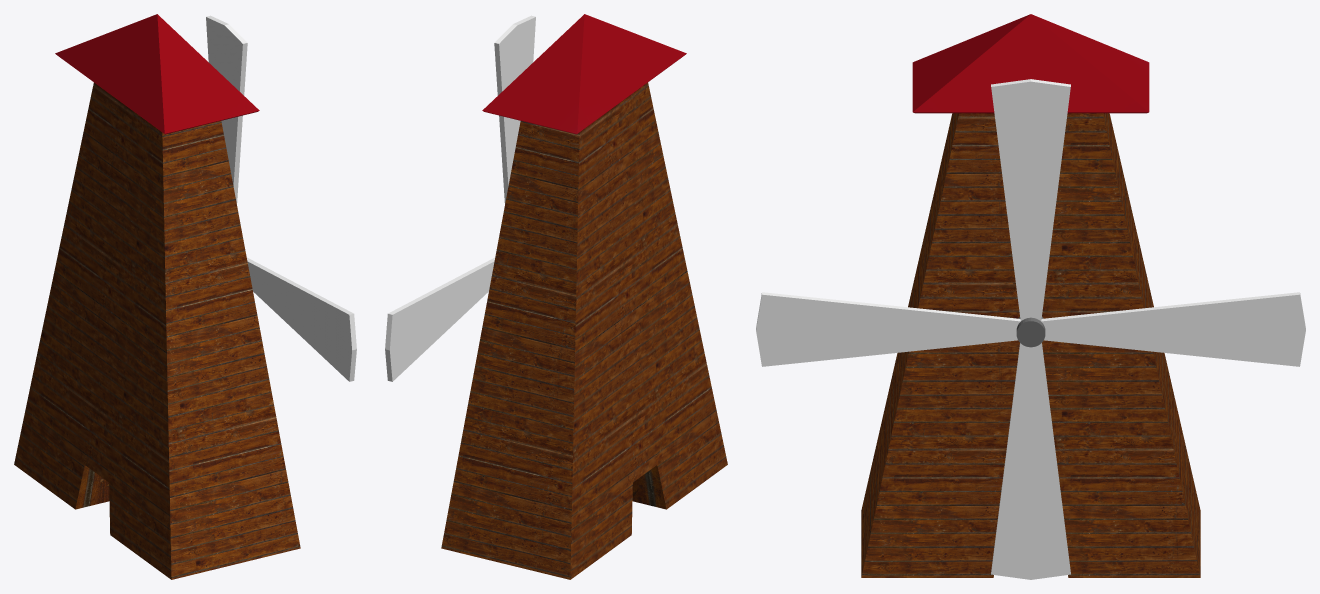
Rendered from test_windmill.fbx.
3 views of the same model, side by side, from view 1: azimuth 30°, elevation 25°; view 2: azimuth 150°, elevation 25°; view 3: azimuth 270°, elevation 25° (orthographic). The views are drawn at different scales.
Visible parts, largest first — view 1: Main.002, Main.001, Roof, Main, Blades; view 2: Main.001, Main.002, Roof, Main, Blades; view 3: Blades, Main.001, Main.002, Roof, Main, Cylinder.
Part boxes in pixels (bbox=[...]): Main.002: bbox=[109, 116, 300, 579]; Main.001: bbox=[14, 82, 115, 509]; Roof: bbox=[55, 14, 259, 134]; Main: bbox=[84, 99, 140, 482]; Blades: bbox=[206, 15, 356, 381]; Main.001: bbox=[441, 116, 632, 579]; Main.002: bbox=[626, 82, 727, 509]; Roof: bbox=[482, 14, 686, 134]; Main: bbox=[601, 99, 657, 482]; Blades: bbox=[385, 15, 535, 381]; Blades: bbox=[756, 79, 1305, 579]; Main.001: bbox=[1057, 113, 1200, 577]; Main.002: bbox=[861, 113, 1004, 577]; Roof: bbox=[912, 14, 1149, 113]; Main: bbox=[1004, 196, 1057, 462]; Cylinder: bbox=[1016, 316, 1045, 347].
Bounding box in the file's own units: 571 × 1880 × 1768.
8 materials, 8 textured.
